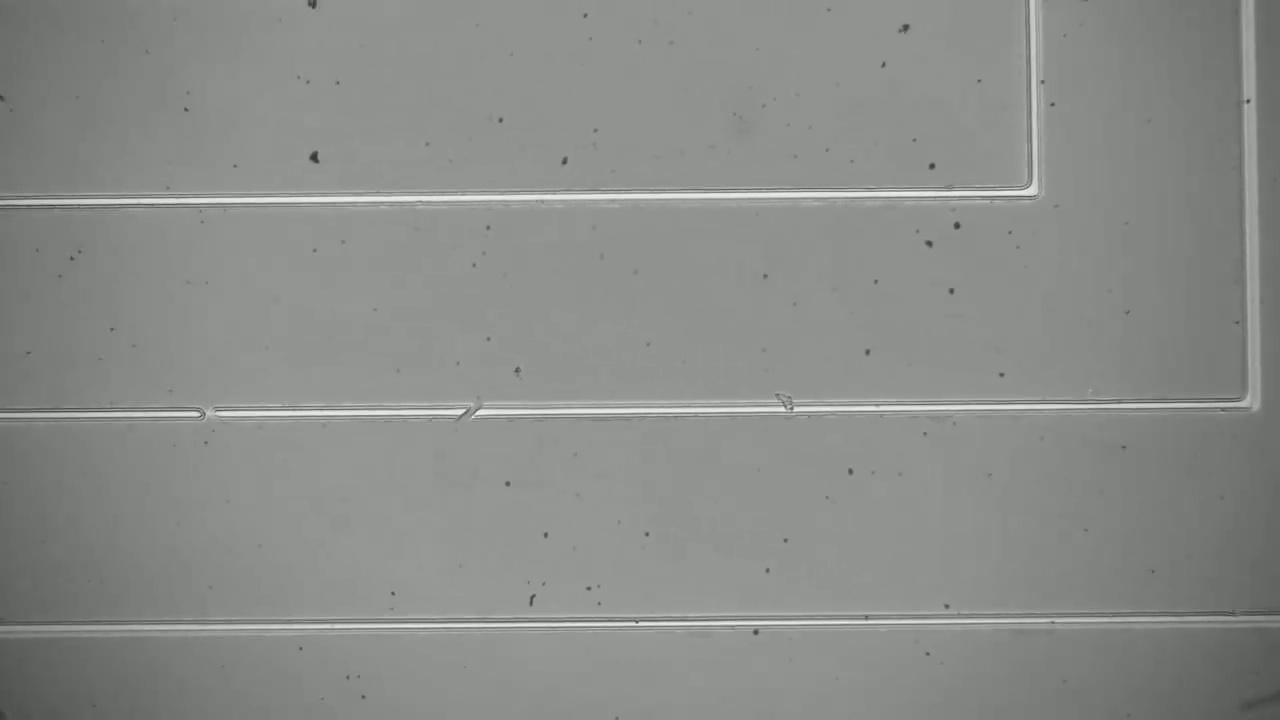open: (450, 395, 497, 433), (185, 395, 227, 429)
stains_enbedded: (761, 383, 808, 425)
